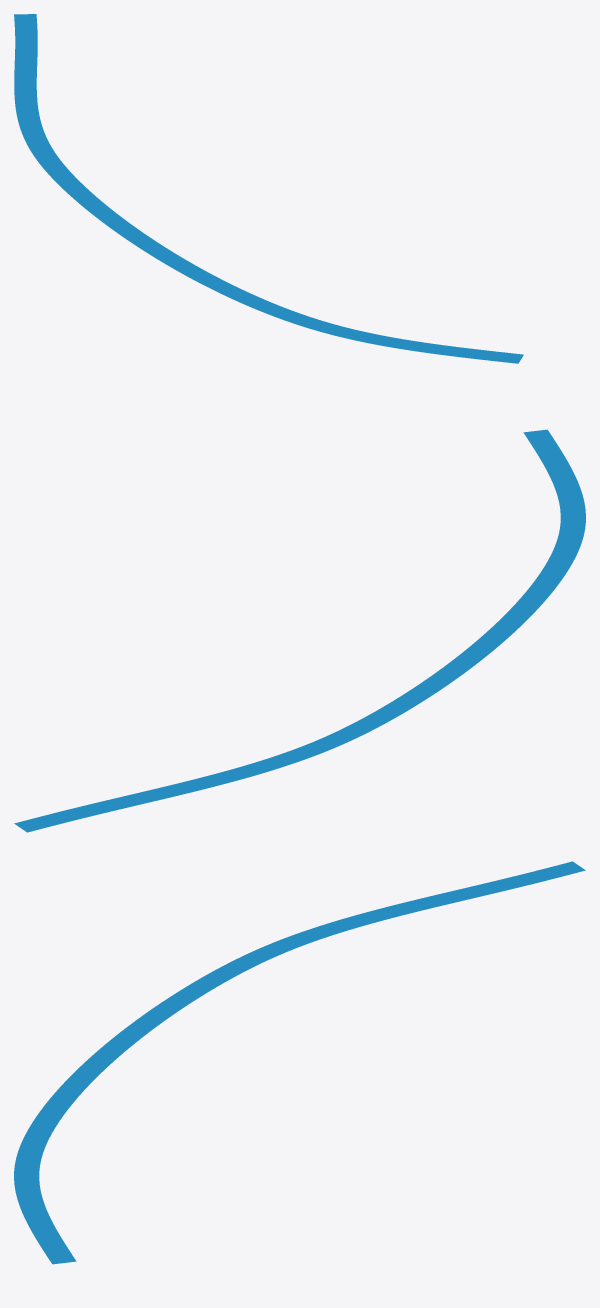
File: guide.glb
3 views of the same model, one above another, from view 1: azimuth 30°, elevation 25°; view 2: azimuth 150°, elevation 25°; view 3: azimuth 330°, elevation 25° (orthographic). The views are drawn at different scales.
Visible parts, largest first — view 1: static; view 2: static; view 3: static.
Boxes of the visible parts, x1,y1,x2,y2 form: static: (14, 14, 523, 363); static: (14, 429, 585, 832); static: (14, 861, 585, 1264).
Size of the model in its own units: 3.52 by 0 by 14.3.
